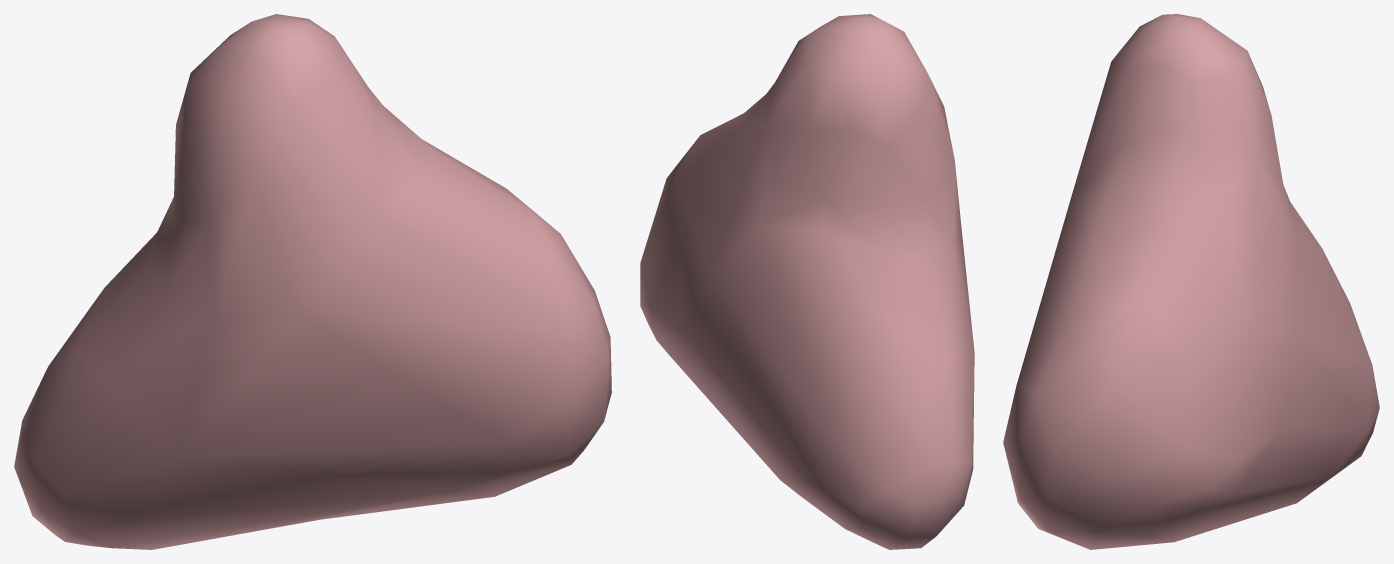
File: fma59541_fj1352.glb
The picture shows the model from 3 angles, left to right: view 1: azimuth 30°, elevation 25°; view 2: azimuth 150°, elevation 25°; view 3: azimuth 270°, elevation 25°; orthographic projection. The views are drawn at different scales.
Parts seen in each view (by area): view 1: FMA59541_FJ1352; view 2: FMA59541_FJ1352; view 3: FMA59541_FJ1352.
Boxes of the visible parts, <box> form: FMA59541_FJ1352: <box>14,14,611,549</box>; FMA59541_FJ1352: <box>640,14,974,549</box>; FMA59541_FJ1352: <box>1003,14,1379,549</box>.
Size of the model in its own units: 0.0025 by 0.00281 by 0.00189.
